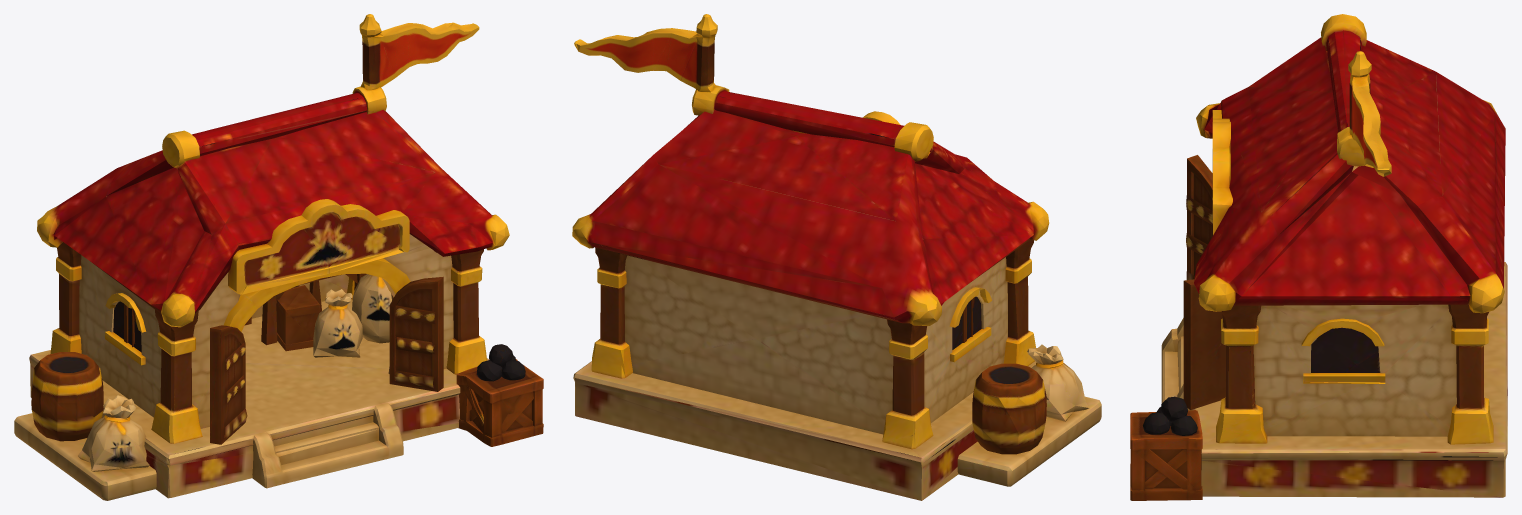
Rendered from gunpowder_depot.glb.
3 views of the same model, side by side, from view 1: azimuth 30°, elevation 25°; view 2: azimuth 150°, elevation 25°; view 3: azimuth 270°, elevation 25° (orthographic). The views are drawn at different scales.
Parts seen in each view (by area): view 1: mesh_000; view 2: mesh_000; view 3: mesh_000.
Part boxes in pixels (x1,y1,x2,y2): mesh_000: (14,14,543,500); mesh_000: (572,14,1101,500); mesh_000: (1130,14,1507,500).
Size of the model in its own units: 0.957 by 0.7397 by 0.6162.
1 material, 1 textured.
